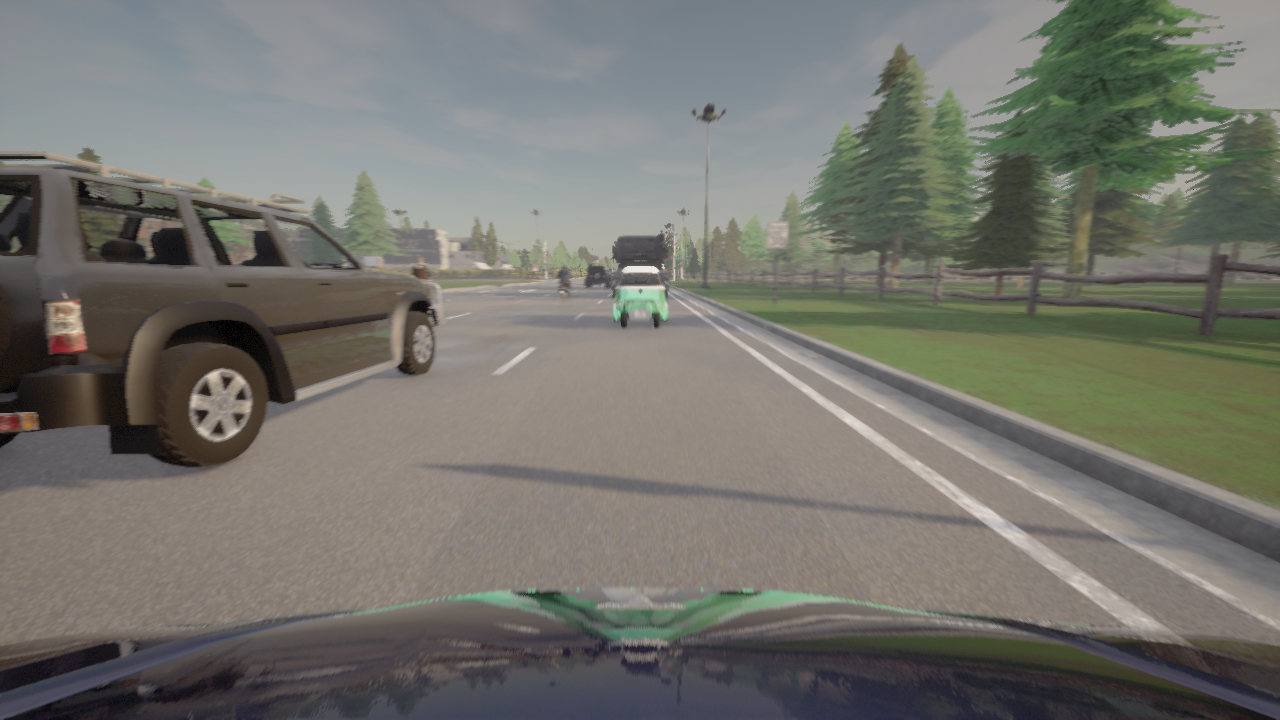cyclist: (0, 588, 1279, 719), (610, 267, 669, 328), (612, 234, 668, 297), (585, 265, 610, 288), (556, 273, 573, 299), (598, 270, 612, 284), (427, 277, 435, 291)
